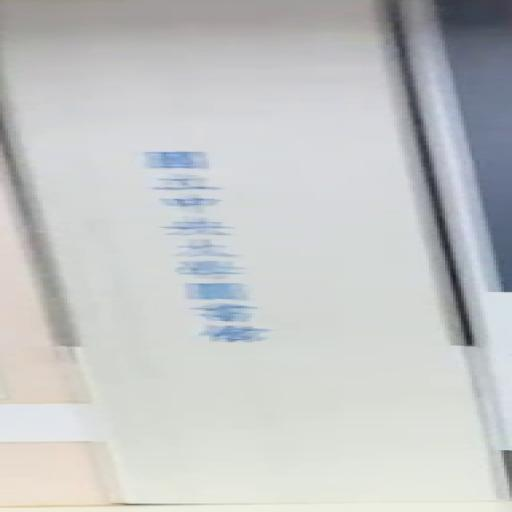backward: (1, 1, 510, 512)
